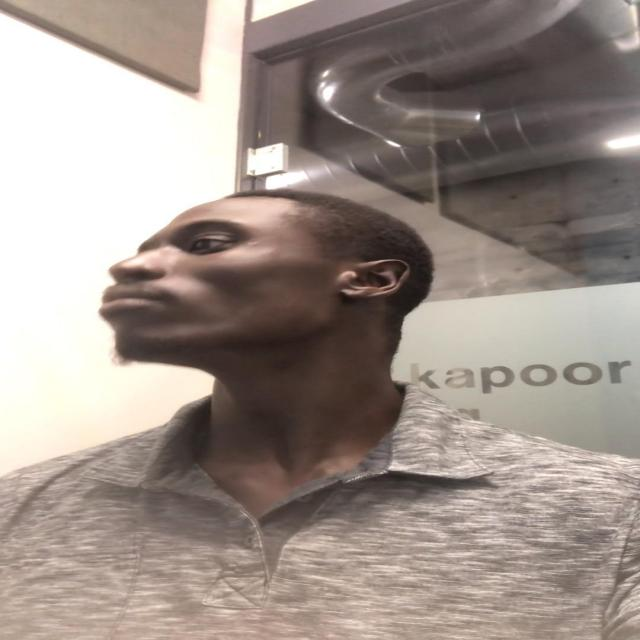face: (101, 201, 367, 369)
